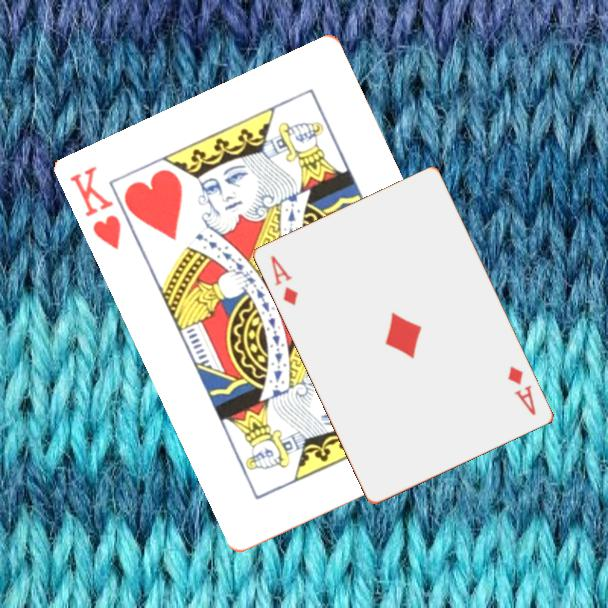d01: (504, 362, 539, 419), (267, 252, 301, 308)
h13: (67, 162, 125, 253)
